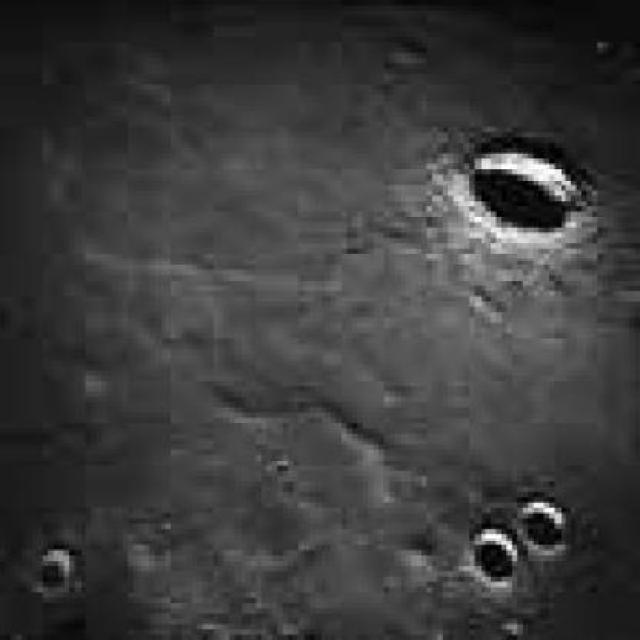crater: (464, 154, 579, 235), (464, 534, 518, 584), (514, 503, 563, 554), (37, 548, 75, 592)
